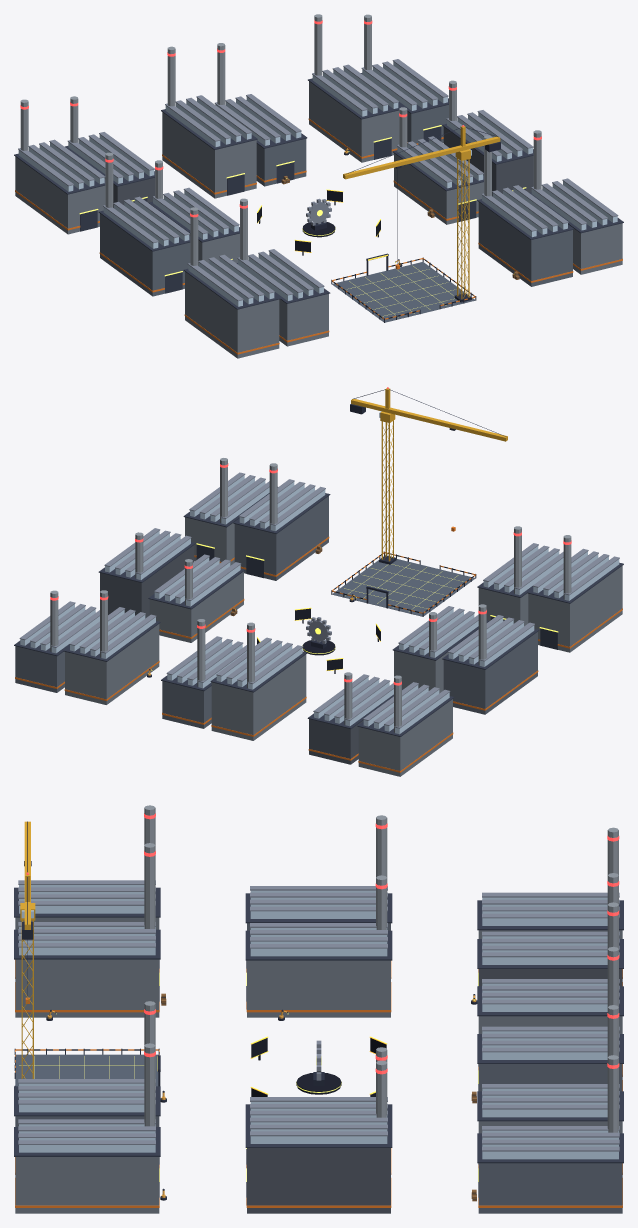
3 views of the same model, one above another, from view 1: azimuth 30°, elevation 25°; view 2: azimuth 150°, elevation 25°; view 3: azimuth 270°, elevation 25° (orthographic). The views are drawn at different scales.
Visible parts, largest first — view 1: district_city_taller.lod1; view 2: district_city_taller.lod1; view 3: district_city_taller.lod1.
Part boxes in pixels (x1,y1,x2,y2): district_city_taller.lod1: (14,14,623,358); district_city_taller.lod1: (14,387,623,776); district_city_taller.lod1: (14,805,623,1213).
Bounding box in the file's own units: 97.4 × 41.97 × 97.4.
